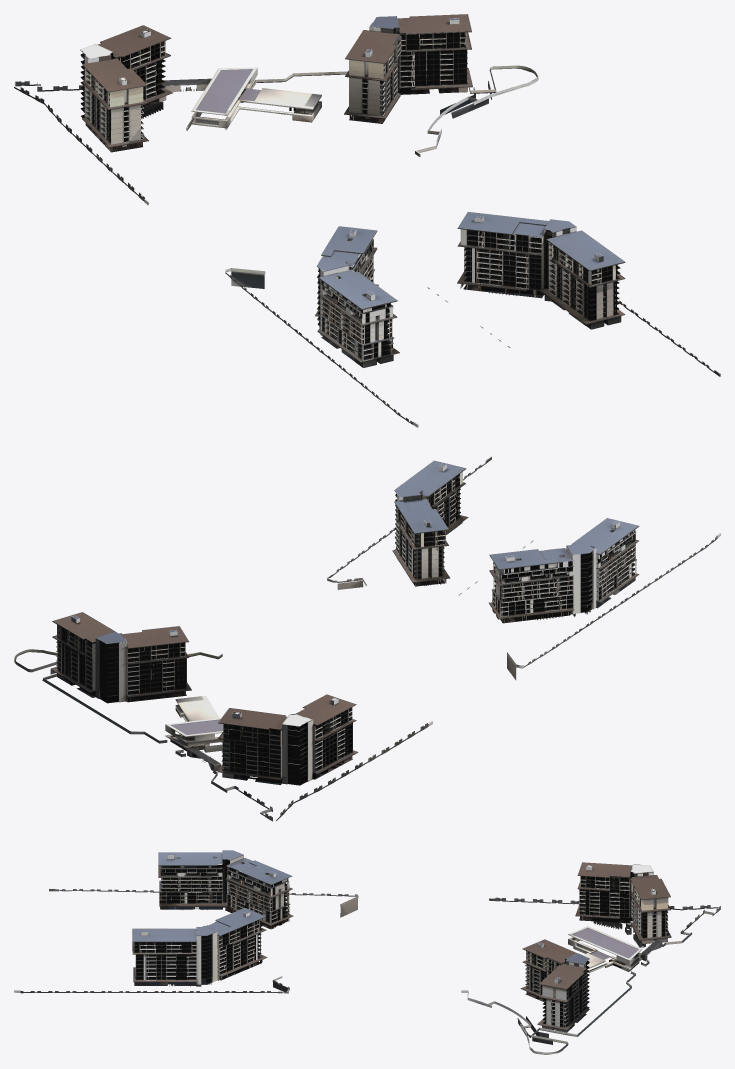
The model's file is Yaafour_build_1.glb.
3 views of the same model, one above another, from view 1: azimuth 30°, elevation 25°; view 2: azimuth 150°, elevation 25°; view 3: azimuth 270°, elevation 25° (orthographic). The views are drawn at different scales.
Visible parts, largest first — view 1: house_1; view 2: house_1; view 3: house_1.
Part boxes in pixels (<box>): house_1: <box>14,14,720,427</box>; house_1: <box>14,456,720,821</box>; house_1: <box>14,850,720,1054</box>.
Bounding box in the file's own units: 1.01e+07 × 1750048 × 1.84e+07.
4 materials, 4 textured.
